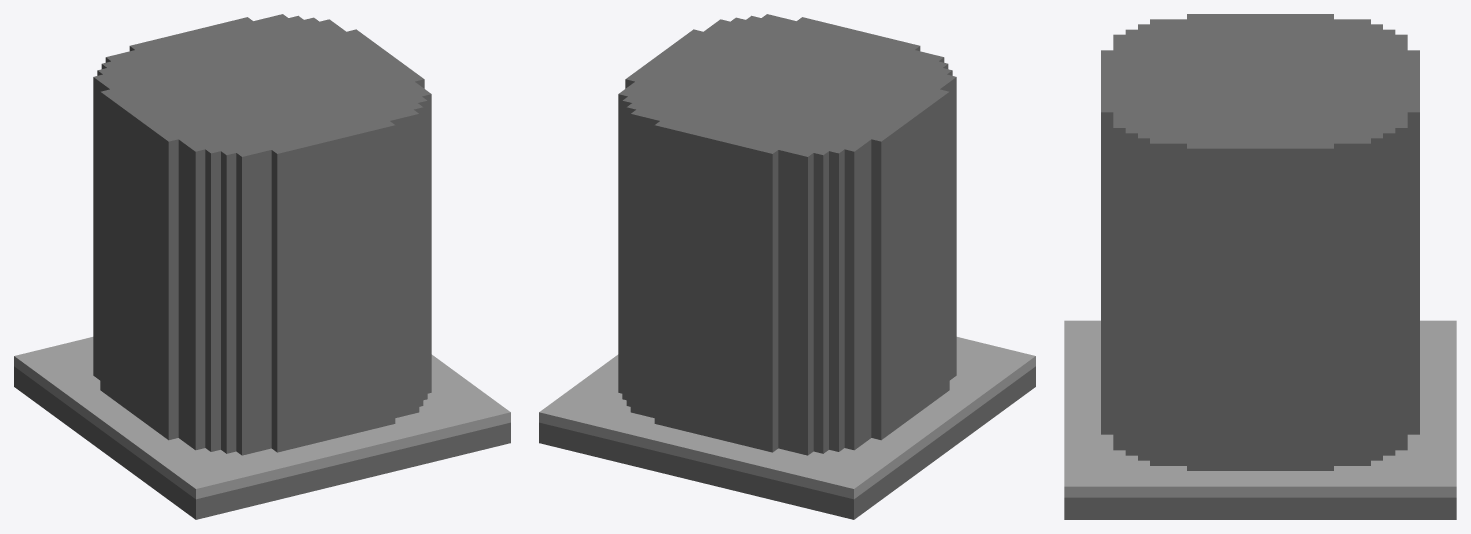
File: Pillar.obj
3 renders of one model, left to right at view 1: azimuth 30°, elevation 25°; view 2: azimuth 150°, elevation 25°; view 3: azimuth 270°, elevation 25°, orthographic. The views are drawn at different scales.
Parts seen in each view (by area): view 1: Pillar; view 2: Pillar; view 3: Pillar.
Boxes of the visible parts, x1,y1,x2,y2 form: Pillar: [14, 14, 510, 519]; Pillar: [539, 14, 1035, 519]; Pillar: [1064, 14, 1456, 519].
Size of the model in its own units: 32 by 32 by 32.
